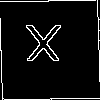X: (24, 24, 63, 72)
